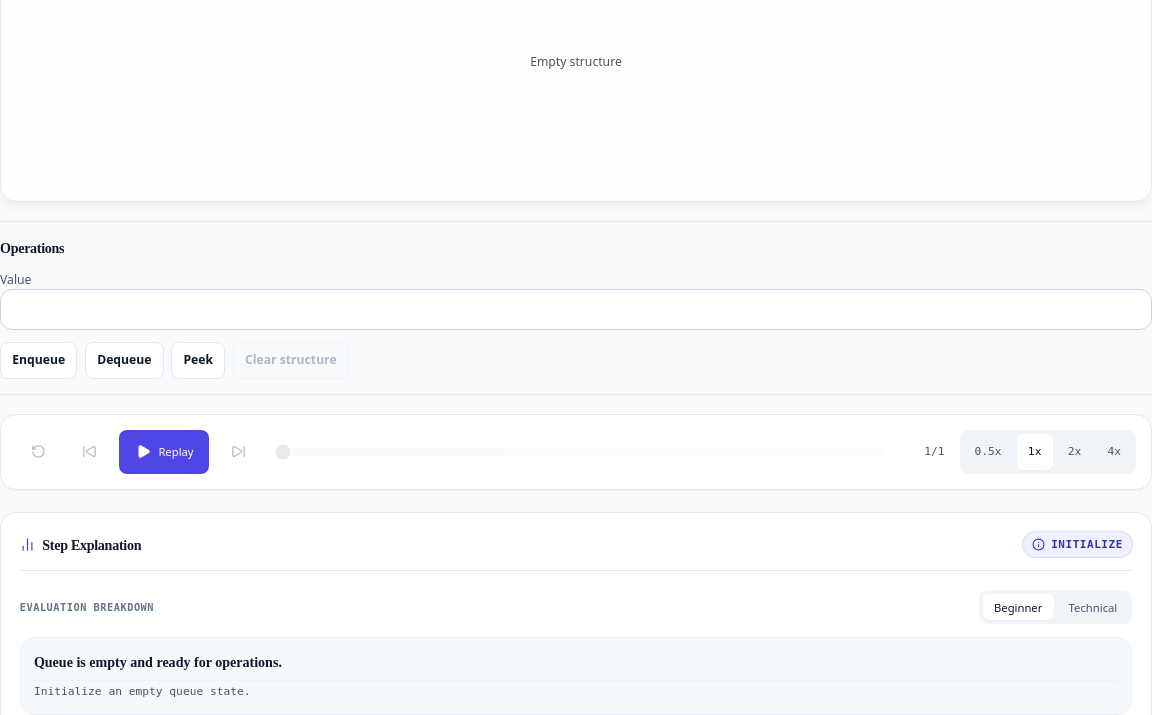
Test: data structure visualizers › renders queue endpoints and validates empty operation input
(page scrolled)
Click the button "Enqueue" at (39, 360), box [0,342,77,379]
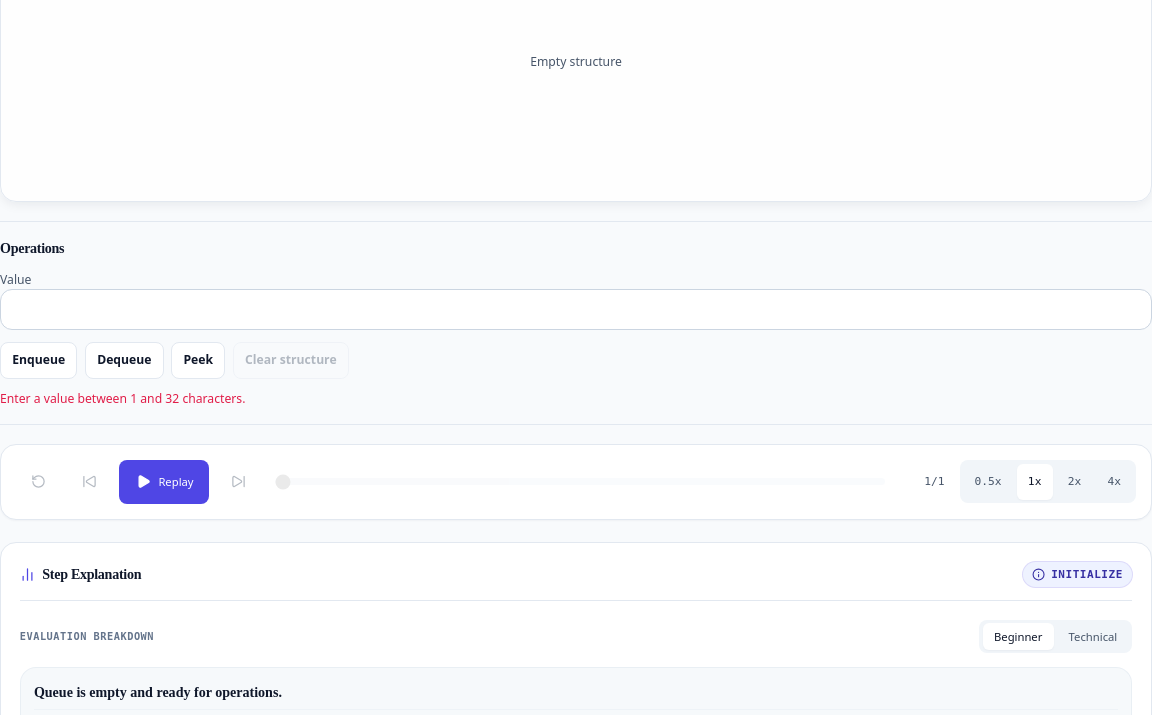
Now the message "Enter a value between 1 and 32 characters." is shown, box [0,390,245,408]
Type "first" into the field labelled "Value" at (576, 310), box [0,289,1151,330]
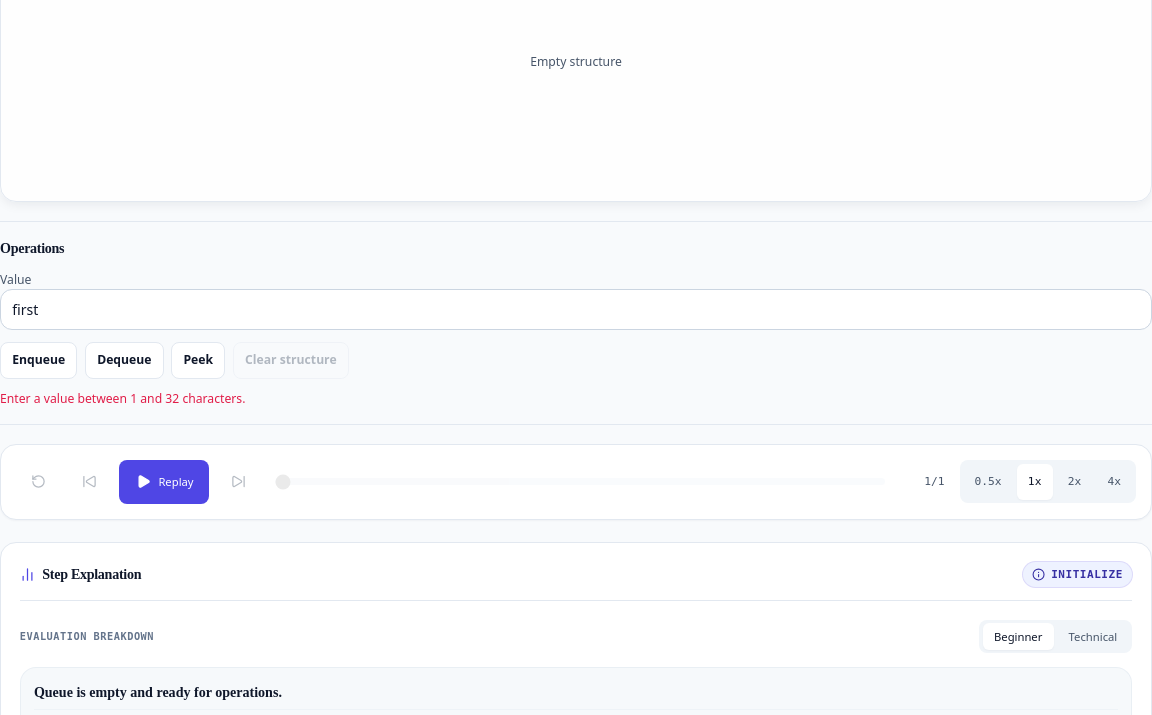
Click the button "Enqueue" at (39, 360), box [0,342,77,379]
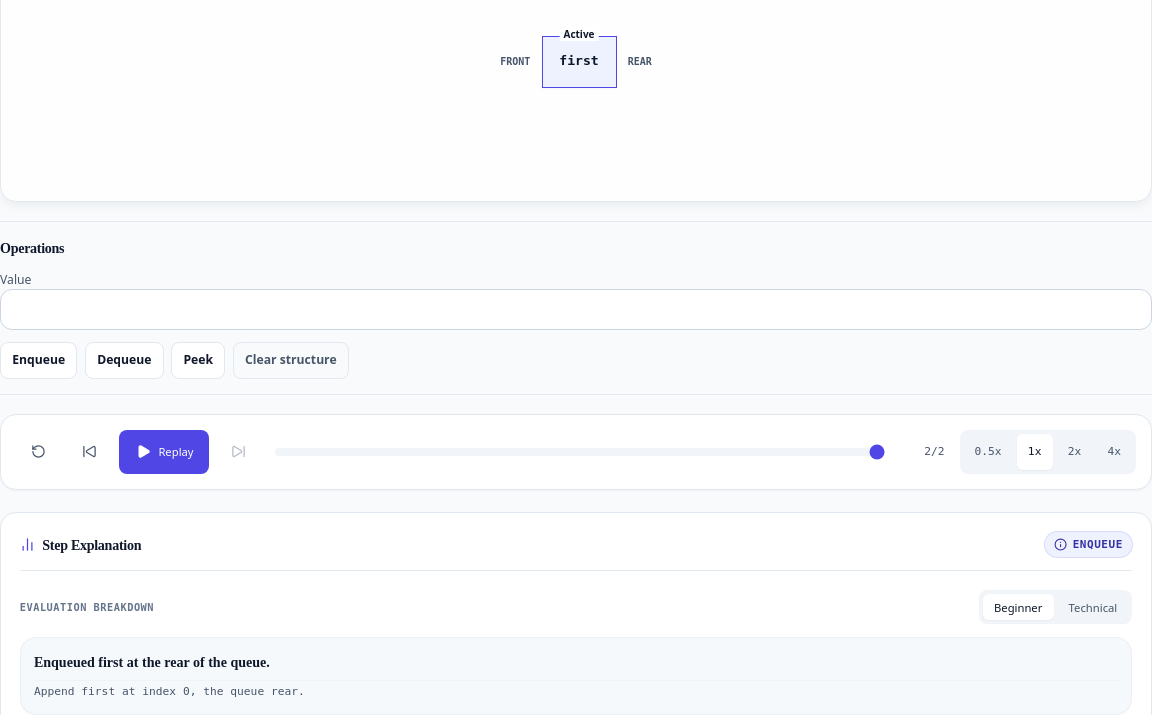
Now the text "Enqueued first at the rear of the queue." is shown, box [34,654,270,670]
Now the text "Front" is shown, box [500,54,530,70]
Now the text "Rear" is shown, box [628,54,652,70]
